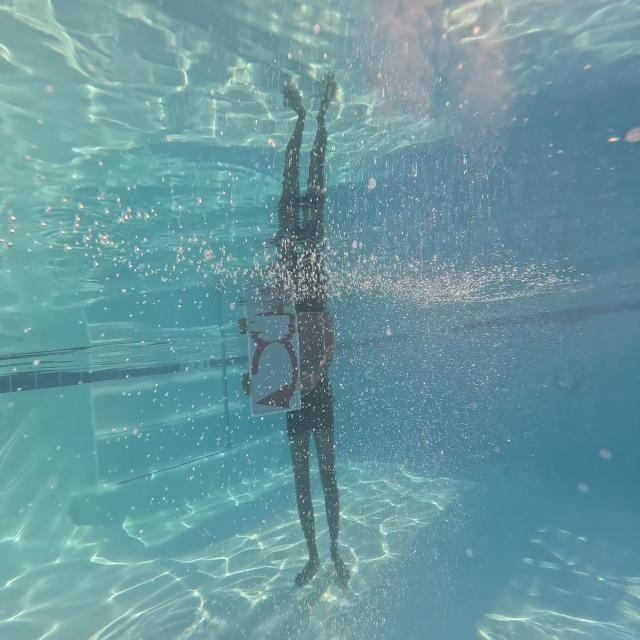red_side: (250, 333, 300, 415)
